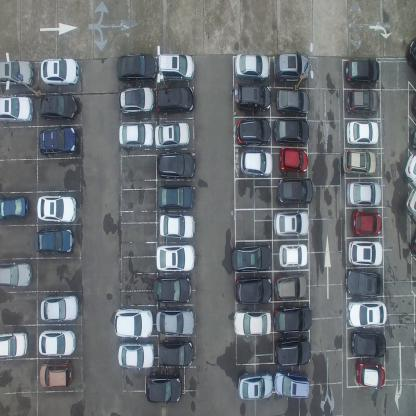car: (114, 306, 153, 339), (154, 241, 194, 273), (273, 302, 313, 332), (158, 51, 196, 82), (274, 336, 312, 367), (39, 126, 78, 156), (40, 293, 79, 323), (40, 57, 80, 86), (36, 194, 76, 223), (146, 372, 182, 404), (34, 226, 75, 254), (273, 368, 310, 399), (234, 82, 272, 112), (156, 306, 194, 336), (38, 329, 76, 359), (235, 275, 273, 305), (117, 53, 156, 82), (344, 268, 381, 298), (231, 244, 272, 271), (233, 308, 271, 337), (349, 330, 387, 359), (238, 370, 273, 401), (38, 360, 74, 390), (347, 300, 387, 327), (156, 150, 194, 178), (157, 84, 195, 112), (118, 86, 156, 114), (0, 58, 34, 89), (152, 275, 191, 302), (39, 94, 78, 121), (274, 52, 309, 82), (158, 338, 194, 367), (344, 57, 380, 86), (157, 183, 195, 210), (0, 258, 32, 290), (237, 116, 271, 146), (158, 212, 194, 240), (0, 95, 33, 125), (342, 148, 376, 177), (234, 53, 270, 80), (154, 121, 190, 148), (118, 342, 154, 369), (240, 149, 273, 178), (276, 87, 309, 116), (274, 209, 308, 237), (274, 117, 309, 144), (348, 239, 383, 266), (118, 122, 154, 148), (346, 180, 382, 206), (275, 272, 308, 300), (0, 192, 29, 223), (344, 90, 378, 116), (344, 121, 378, 147), (278, 178, 312, 204), (278, 146, 308, 174), (0, 329, 28, 359), (355, 360, 385, 388), (352, 209, 382, 236), (279, 242, 308, 268), (405, 37, 416, 74), (406, 187, 416, 227), (405, 152, 416, 188), (408, 230, 416, 258)
